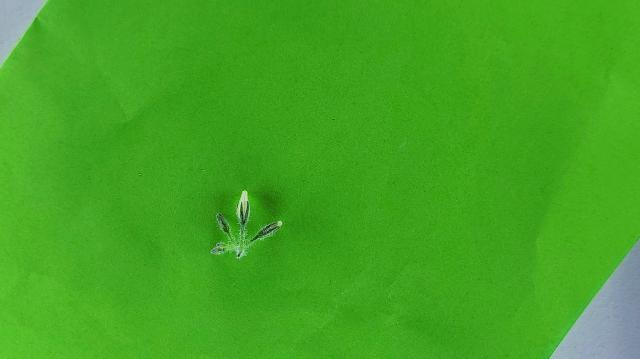Flower Bud: (251, 220, 282, 242), (216, 213, 229, 236), (238, 200, 249, 227), (210, 247, 225, 255)
